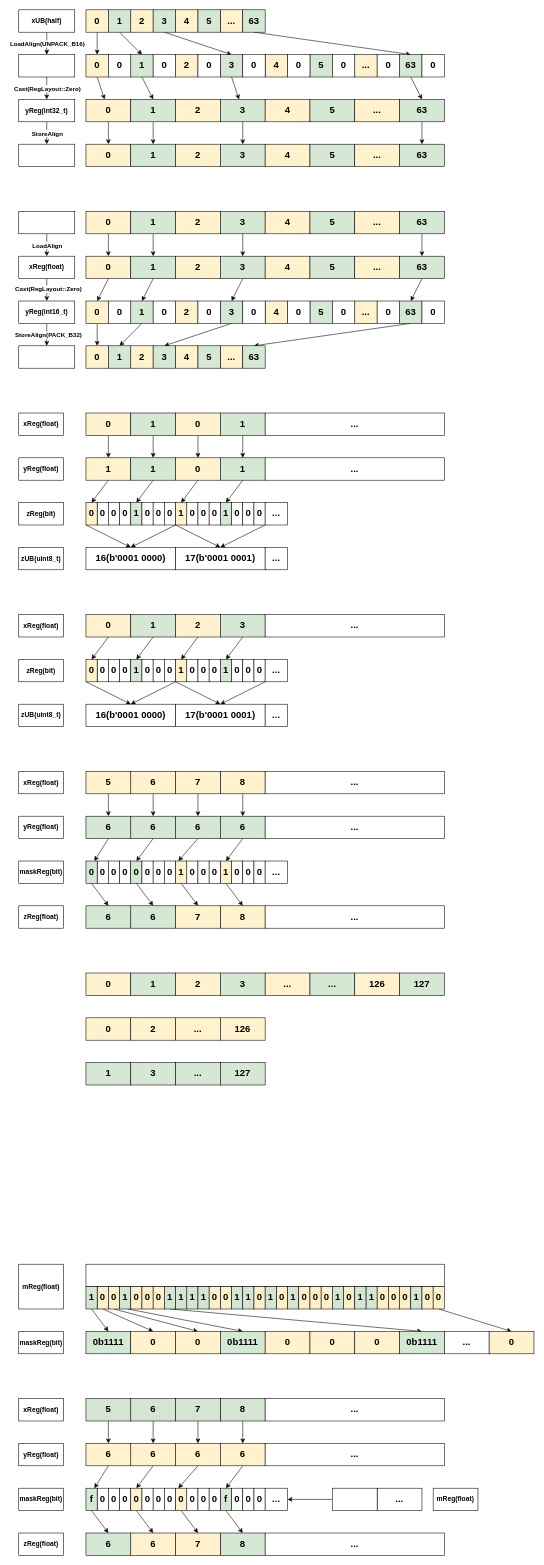
The diagram is 544 pixels wide and 1565 high, and some of its shapes have lost their labels. Here are the shapes that lost their labels. From the top down, the centre of each, then its label:
point 46,65: xReg(half)
point 46,155: yUB(int32_t)
point 46,222: xUB(float)
point 46,356: yUB(half)
point 264,1275: 0x23456789，下为倒序的bit位
point 354,1499: 0x23456789
